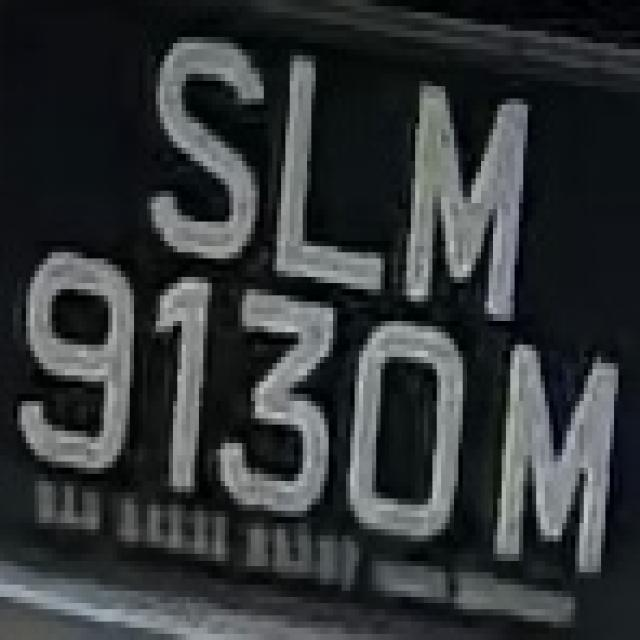0: (346, 314, 476, 578)
1: (138, 259, 220, 523)
3: (234, 258, 342, 554)
9: (22, 227, 134, 498)
L: (268, 37, 398, 295)
M: (389, 55, 545, 332), (497, 308, 614, 597)
S: (147, 18, 268, 264)
